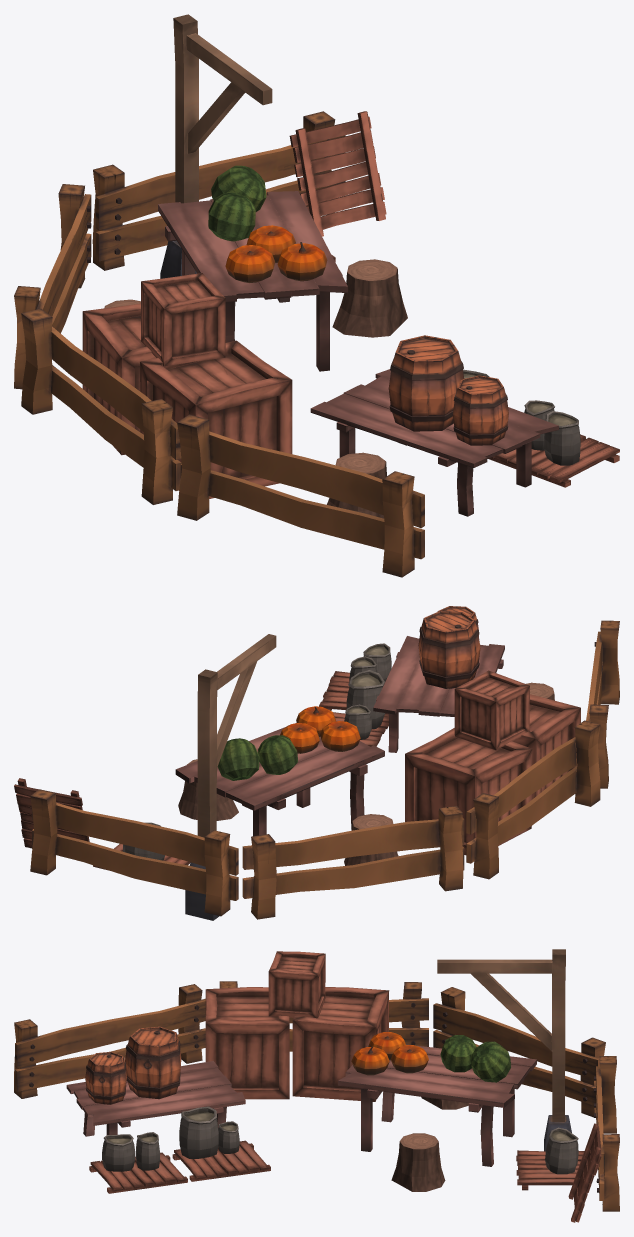
The model's file is wooden.obj.
3 renders of one model, top to bottom at view 1: azimuth 30°, elevation 25°; view 2: azimuth 150°, elevation 25°; view 3: azimuth 270°, elevation 25°, orthographic. The views are drawn at different scales.
Parts seen in each view (by area): view 1: Cube.004_Wall_0, Cube.005_Wall_0, Cube_Box_0, Cube.008_Chair_0, Cube.007_Wall_0, Cube.001_Chair_0, Cube.013_Floor_0, Cube.003_streetLamp_0, Cube.010_Box_0, Cylinder.009_Boshka_0, Cube.006_Wall_0, Cylinder.004_Donke_0 (+10 smaller); view 2: Cube.006_Wall_0, Cube.007_Wall_0, Cube.005_Wall_0, Cube.009_Box_0, Cube.008_Chair_0, Cube.003_streetLamp_0, Cube.010_Box_0, Cube.001_Chair_0, Cylinder.009_Boshka_0, Cube.004_Wall_0, Cube_Box_0, Cube.013_Floor_0 (+12 smaller); view 3: Cube.004_Wall_0, Cube_Box_0, Cube.009_Box_0, Cube.008_Chair_0, Cube.006_Wall_0, Cube.003_streetLamp_0, Cube.001_Chair_0, Cube.010_Box_0, Cylinder.009_Boshka_0, Cube.007_Wall_0, Cylinder.004_Donke_0, Cube.005_Wall_0 (+15 smaller).
Part boxes in pixels (bbox=[...]): Cube.004_Wall_0: bbox=[177, 414, 424, 577]; Cube.005_Wall_0: bbox=[21, 308, 181, 504]; Cube_Box_0: bbox=[140, 340, 292, 498]; Cube.008_Chair_0: bbox=[158, 191, 347, 371]; Cube.007_Wall_0: bbox=[92, 111, 345, 270]; Cube.001_Chair_0: bbox=[310, 369, 558, 516]; Cube.013_Floor_0: bbox=[289, 111, 386, 236]; Cube.003_streetLamp_0: bbox=[160, 14, 272, 278]; Cube.010_Box_0: bbox=[141, 273, 225, 366]; Cylinder.009_Boshka_0: bbox=[388, 335, 464, 431]; Cube.006_Wall_0: bbox=[14, 184, 91, 389]; Cylinder.004_Donke_0: bbox=[332, 259, 407, 337]; Cube.006_Wall_0: bbox=[242, 805, 464, 919]; Cube.007_Wall_0: bbox=[30, 789, 238, 916]; Cube.005_Wall_0: bbox=[466, 720, 600, 879]; Cube.009_Box_0: bbox=[405, 728, 532, 855]; Cube.008_Chair_0: bbox=[175, 723, 384, 869]; Cube.003_streetLamp_0: bbox=[185, 634, 276, 920]; Cube.010_Box_0: bbox=[454, 670, 529, 750]; Cube.001_Chair_0: bbox=[373, 636, 504, 752]; Cylinder.009_Boshka_0: bbox=[418, 611, 480, 688]; Cube.004_Wall_0: bbox=[586, 620, 619, 788]; Cube_Box_0: bbox=[513, 694, 580, 799]; Cube.013_Floor_0: bbox=[14, 778, 89, 848]; Cube.004_Wall_0: bbox=[14, 984, 205, 1098]; Cube_Box_0: bbox=[205, 987, 289, 1099]; Cube.009_Box_0: bbox=[292, 987, 389, 1101]; Cube.008_Chair_0: bbox=[338, 1044, 536, 1166]; Cube.006_Wall_0: bbox=[433, 987, 605, 1117]; Cube.003_streetLamp_0: bbox=[437, 949, 571, 1151]; Cube.001_Chair_0: bbox=[66, 1061, 245, 1136]; Cube.010_Box_0: bbox=[268, 951, 325, 1018]; Cylinder.009_Boshka_0: bbox=[125, 1026, 181, 1099]; Cube.007_Wall_0: bbox=[593, 1056, 619, 1211]; Cylinder.004_Donke_0: bbox=[391, 1133, 445, 1191]; Cube.005_Wall_0: bbox=[219, 981, 428, 1051].
Bounding box in the file's own units: 14.82 × 8.84 × 21.94.
10 materials, 10 textured.
